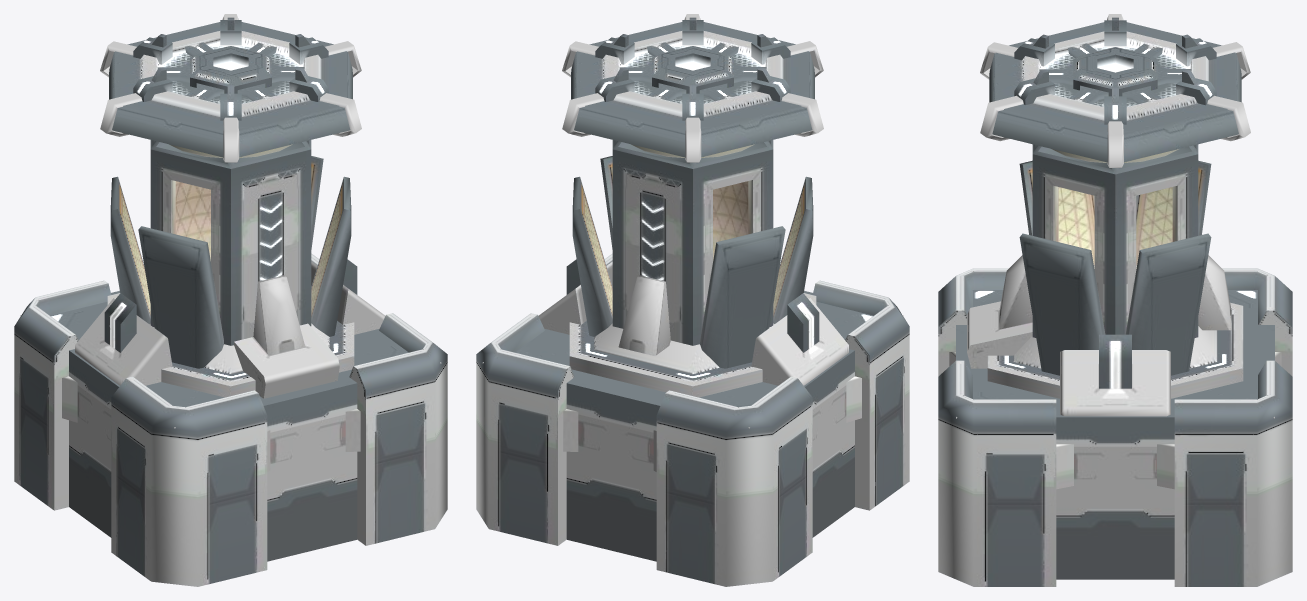
3 views of the same model, side by side, from view 1: azimuth 30°, elevation 25°; view 2: azimuth 150°, elevation 25°; view 3: azimuth 270°, elevation 25° (orthographic). The views are drawn at different scales.
Visible parts, largest first — view 1: smelter-3; view 2: smelter-3; view 3: smelter-3.
Boxes of the visible parts, x1,y1,x2,y2 form: smelter-3: [14, 14, 447, 586]; smelter-3: [476, 14, 909, 586]; smelter-3: [938, 14, 1292, 586].
Bounding box in the file's own units: 3 × 4.28 × 3.
Materials: 1 (1 with a texture image).
